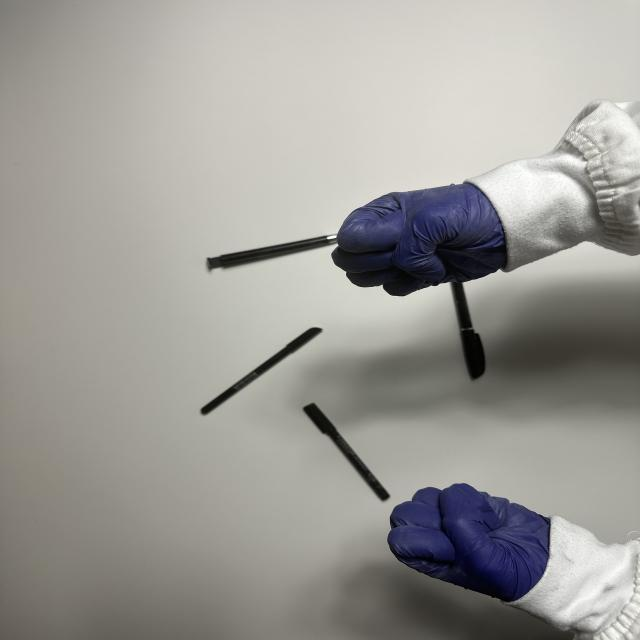gloves_contaminated: (333, 185, 506, 296), (388, 484, 550, 602)
